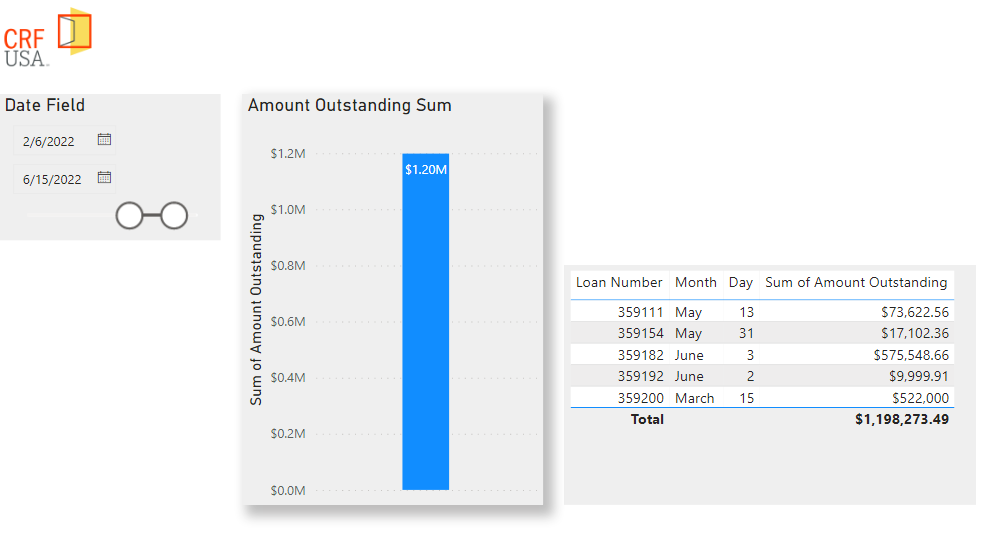

The page's visual inventory and layout, read from the dashboard file:
{"tool":"powerbi","page":{"name":"Loans in Funding","canvas":[1280,720],"ordinal":0},"visuals":[{"type":"clusteredColumnChart","fields":{"Y":["Sum(Loans In Funding.Amount Outstanding )"]},"box":[278.4,49.8,330.3,409.7],"z":0},{"type":"tableEx","fields":{"Values":["Loans In Funding.Loan Number","Loans In Funding.Close Date.Variation.Date Hierarchy.Month","Loans In Funding.Close Date.Variation.Date Hierarchy.Day","Sum(Loans In Funding.Amount Outstanding )"]},"box":[640.6,87.7,382.6,222.4],"z":3000},{"type":"slicer","fields":{"Values":["Loans In Funding.Close Date"]},"box":[36,63.5,213.9,271],"z":3001}]}

Visuals, with their boxes on the page's 1280x720 design canvas (x1, y1, x2, y2). These are canvas units, not pixel positions in the 992x541 screenshot, which may show the page scaled, cropped or inside an application window:
clusteredColumnChart - Sum(Loans In Funding.Amount Outstanding ): region(278, 50, 609, 460)
tableEx - Loans In Funding.Loan Number x Loans In Funding.Close Date.Variation.Date Hierarchy.Month: region(641, 88, 1023, 310)
slicer - Loans In Funding.Close Date: region(36, 64, 250, 334)
